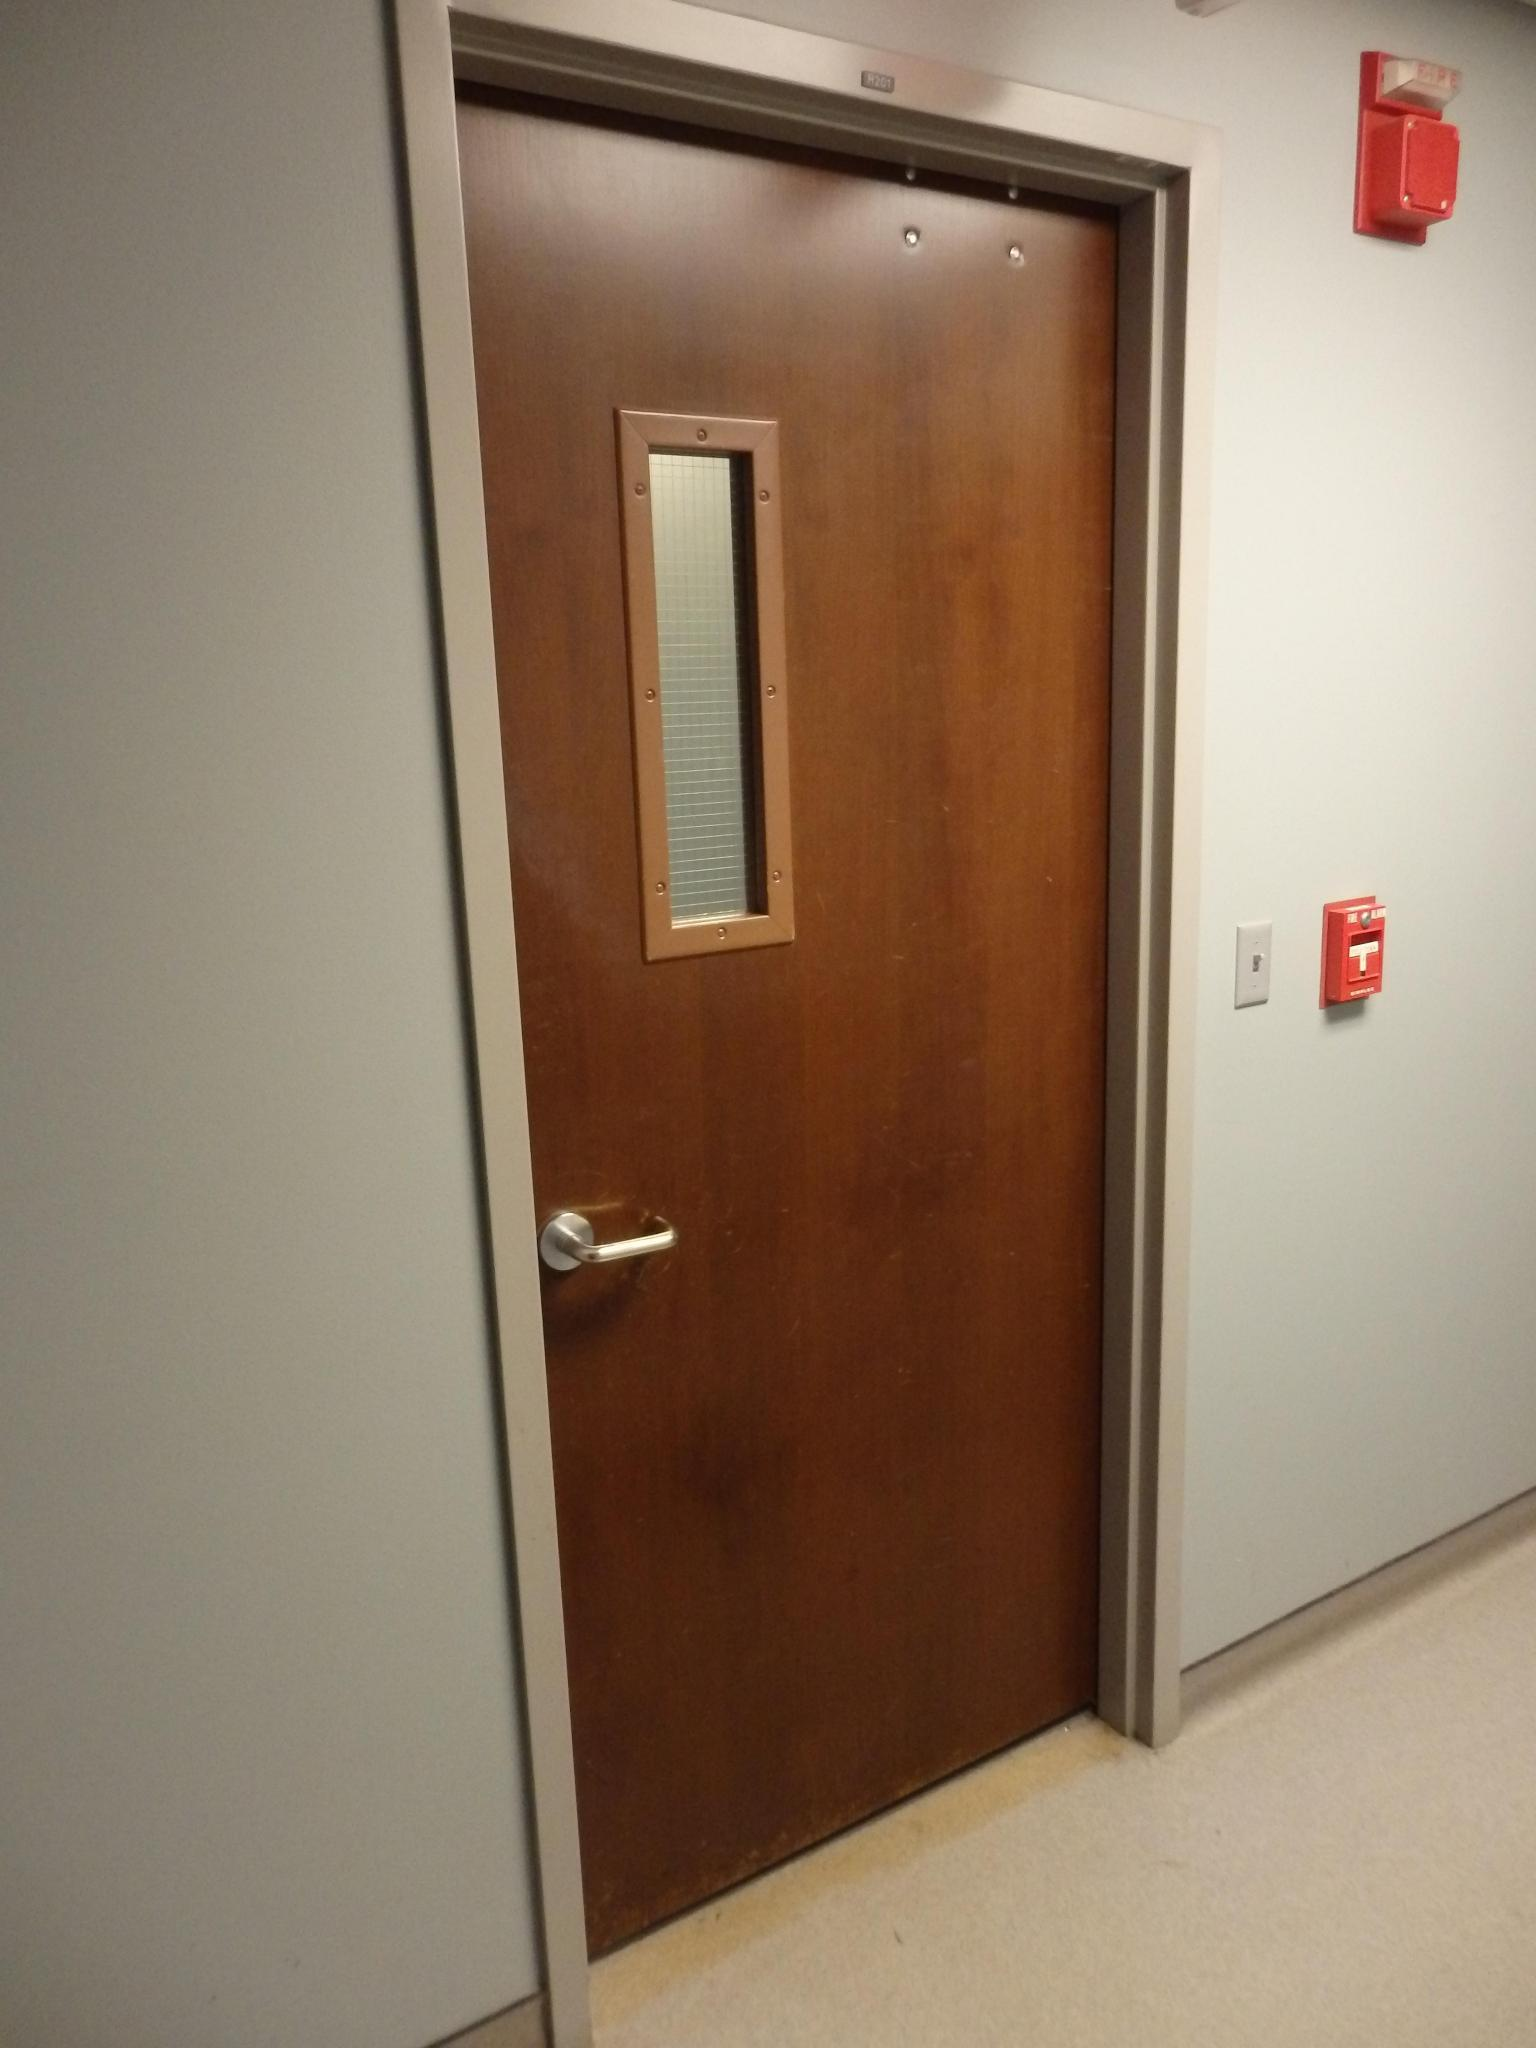door: (539, 182, 1097, 1774)
handle: (553, 1187, 686, 1300)
